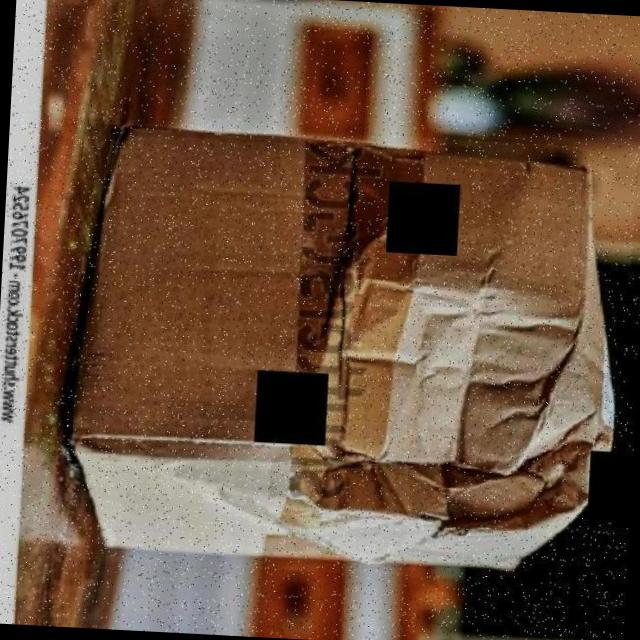box: (62, 119, 637, 586)
